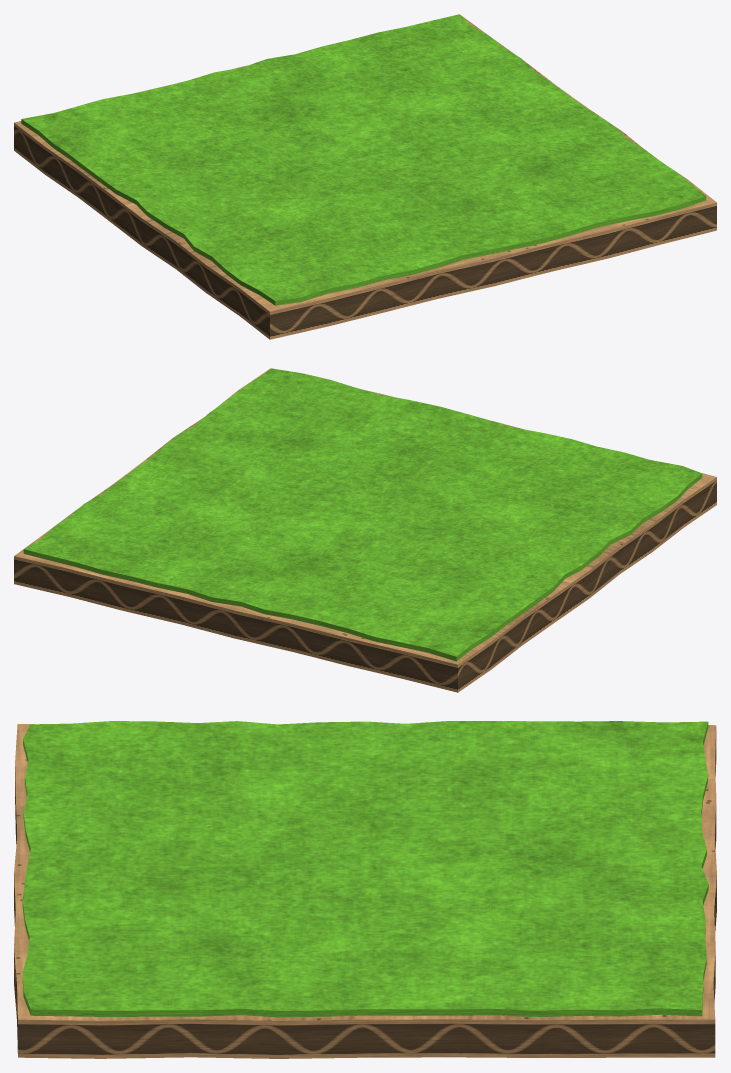
The model's file is ground_tile_grass.gltf.
3 views of the same model, one above another, from view 1: azimuth 30°, elevation 25°; view 2: azimuth 150°, elevation 25°; view 3: azimuth 270°, elevation 25° (orthographic). The views are drawn at different scales.
Parts seen in each view (by area): view 1: ground_tile_grass; view 2: ground_tile_grass; view 3: ground_tile_grass.
Part boxes in pixels (x1,y1,x2,y2): ground_tile_grass: (14,14,716,339); ground_tile_grass: (14,368,716,692); ground_tile_grass: (14,721,716,1058).
Size of the model in its own units: 2.01 by 0.14 by 2.01.
3 materials, 3 textured.
